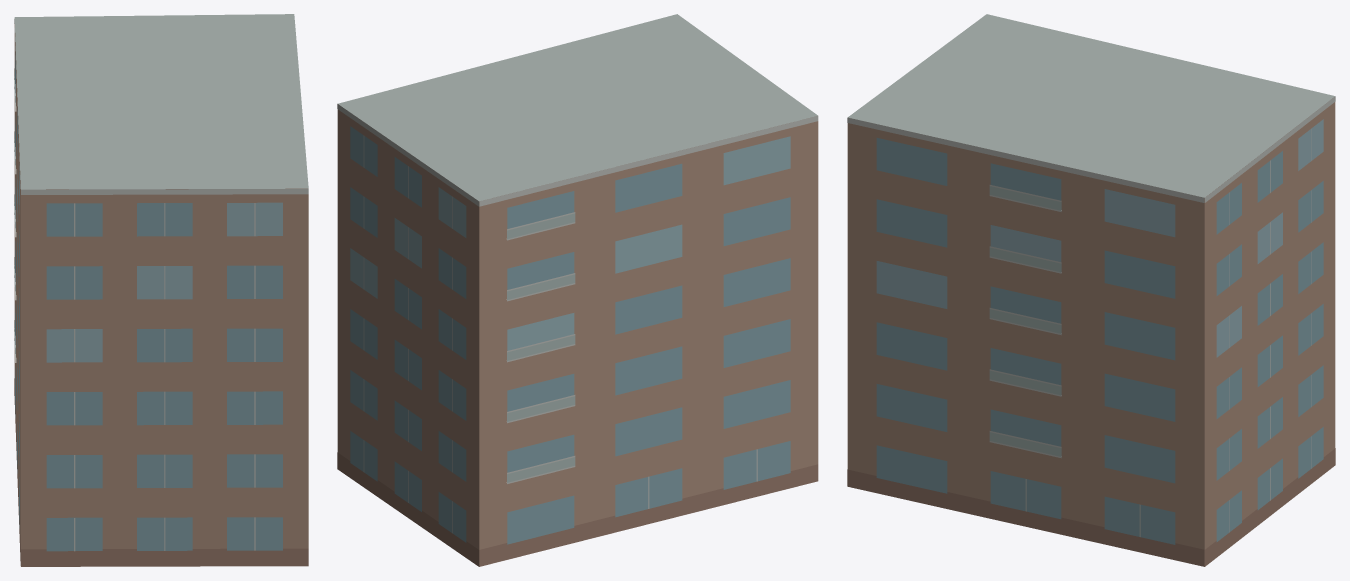
Rendered from survey-upis-32940945.glb.
3 renders of one model, left to right at view 1: azimuth 30°, elevation 25°; view 2: azimuth 150°, elevation 25°; view 3: azimuth 270°, elevation 25°, orthographic. The views are drawn at different scales.
Visible parts, largest first — view 1: survey-upis-32940945.tmp; view 2: survey-upis-32940945.tmp; view 3: survey-upis-32940945.tmp.
Boxes of the visible parts, x1=… form: survey-upis-32940945.tmp: x1=14, y1=14, x2=308, y2=566; survey-upis-32940945.tmp: x1=337, y1=14, x2=818, y2=566; survey-upis-32940945.tmp: x1=847, y1=14, x2=1335, y2=566.
Bounding box in the file's own units: 17.73 × 16.6 × 19.89.
